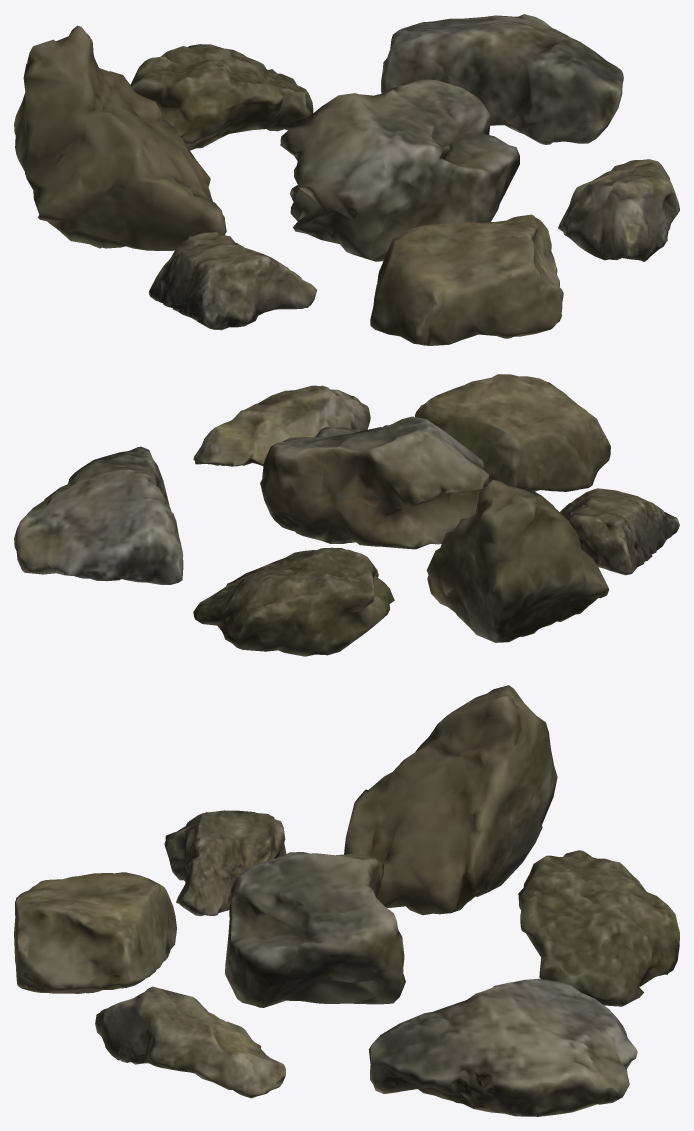
File: rocks-lite.glb
3 renders of one model, top to bottom at view 1: azimuth 30°, elevation 25°; view 2: azimuth 150°, elevation 25°; view 3: azimuth 270°, elevation 25°, orthographic. The views are drawn at different scales.
Visible parts, largest first — view 1: rock_big_2, rock_big_1, rock_medium_1, rock_big_3, rock_big_4, rock_medium_2, rock_medium_3; view 2: rock_big_1, rock_big_2, rock_big_3, rock_big_4, rock_medium_1, rock_medium_3, rock_medium_2; view 3: rock_big_2, rock_big_3, rock_big_1, rock_big_4, rock_medium_1, rock_medium_3, rock_medium_2.
Boxes of the visible parts, x1,y1,x2,y2 form: rock_big_2: (14,25,226,250); rock_big_1: (280,79,519,261); rock_medium_1: (370,214,563,345); rock_big_3: (381,14,623,144); rock_big_4: (130,44,313,150); rock_medium_2: (149,232,317,330); rock_medium_3: (558,159,679,261); rock_big_1: (260,416,489,549); rock_big_2: (426,480,609,642); rock_big_3: (14,446,183,584); rock_big_4: (193,547,394,656); rock_medium_1: (414,374,610,491); rock_medium_3: (193,385,370,466); rock_medium_2: (560,488,679,575); rock_big_2: (344,685,557,915); rock_big_3: (368,978,637,1116); rock_big_1: (225,852,405,1007); rock_big_4: (518,850,679,1006); rock_medium_1: (14,872,176,993); rock_medium_3: (95,986,285,1098); rock_medium_2: (164,810,286,916).
Bounding box in the file's own units: 1.35 × 0.4089 × 1.33.
1 material, 1 textured.
